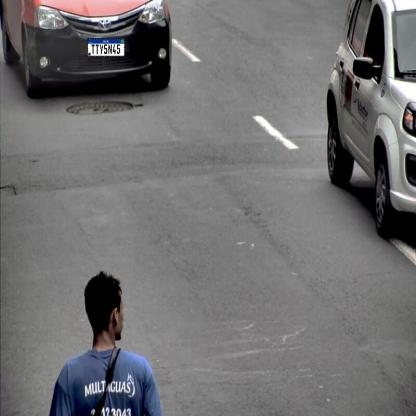PlacaM: (87, 38, 125, 57)
